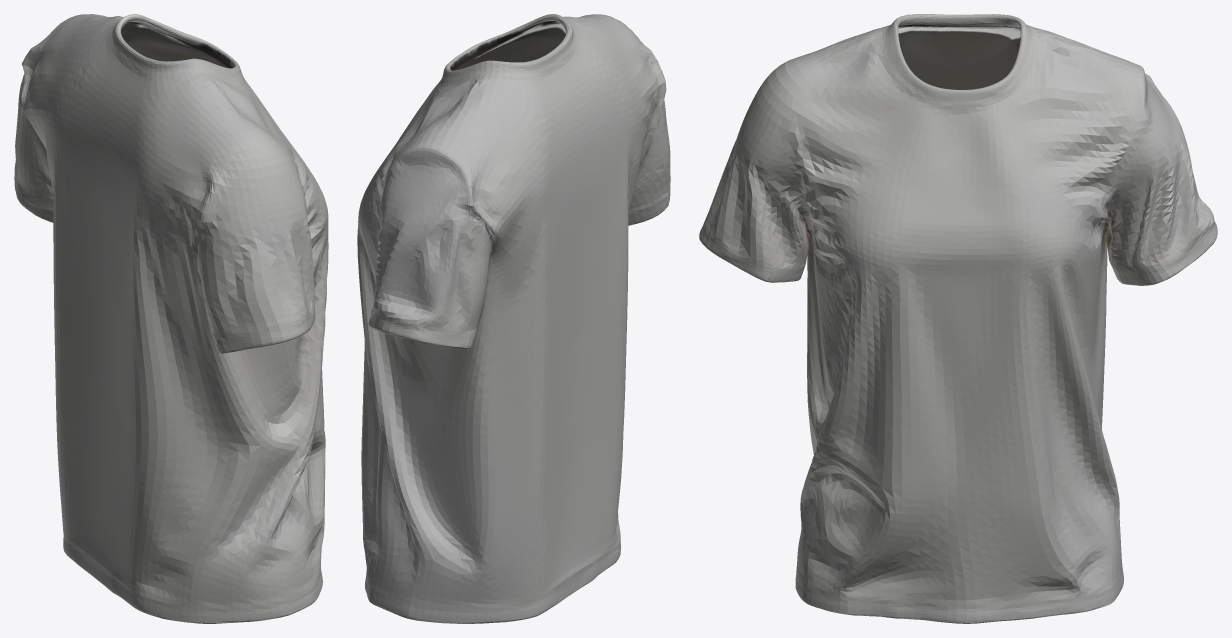
File: shirt.glb
The picture shows the model from 3 angles, left to right: view 1: azimuth 30°, elevation 25°; view 2: azimuth 150°, elevation 25°; view 3: azimuth 270°, elevation 25°; orthographic projection. The views are drawn at different scales.
Visible parts, largest first — view 1: tripo_node_c501cff7-853f-4157-9361-14134c4aaa93; view 2: tripo_node_c501cff7-853f-4157-9361-14134c4aaa93; view 3: tripo_node_c501cff7-853f-4157-9361-14134c4aaa93.
Part boxes in pixels (x1,y1,x2,y2): tripo_node_c501cff7-853f-4157-9361-14134c4aaa93: (14,14,328,623); tripo_node_c501cff7-853f-4157-9361-14134c4aaa93: (357,14,670,623); tripo_node_c501cff7-853f-4157-9361-14134c4aaa93: (699,14,1217,623).
Size of the model in its own units: 0.3812 by 0.9992 by 0.8559.
1 material, 1 textured.
